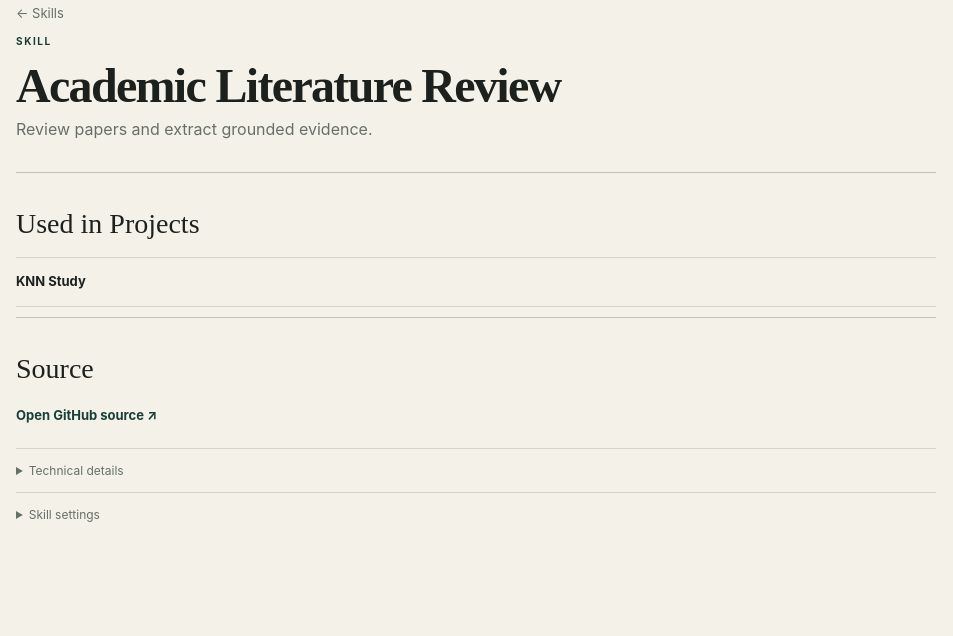
Scenario: shows bounded provenance and blocks deleting an attached Skill
The width and height of the screenshot is (953, 636).
Expected: the heading "Academic Literature Review" is shown, [16,60,561,110]
Expected: the link "Open GitHub source ↗" is shown, [16,407,157,423]
Click the heading "Skill settings" at [64, 514], box [29,507,100,522]
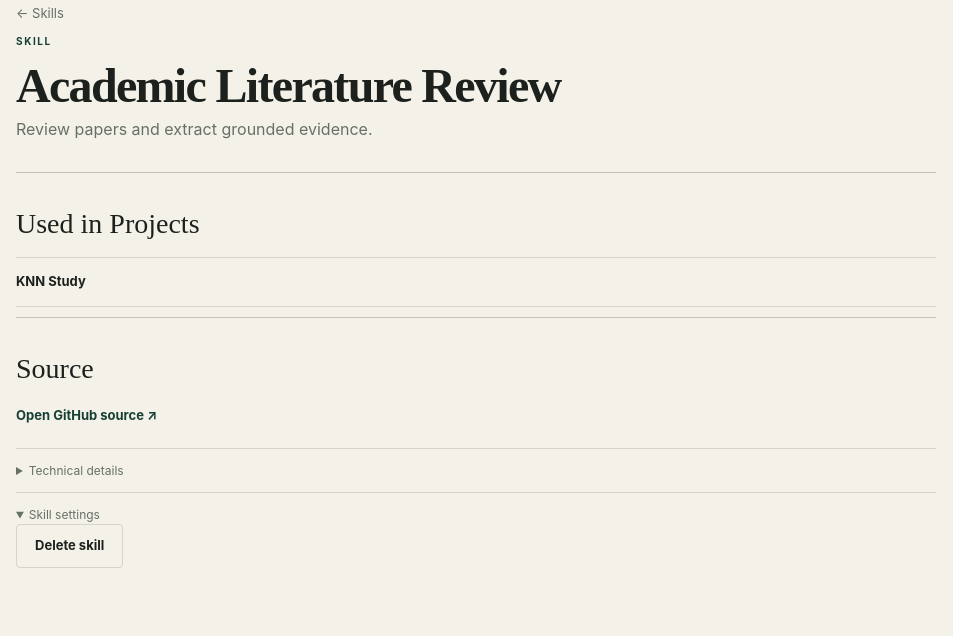
Click the button "Delete skill" at [70, 546], box [16,524,123,568]
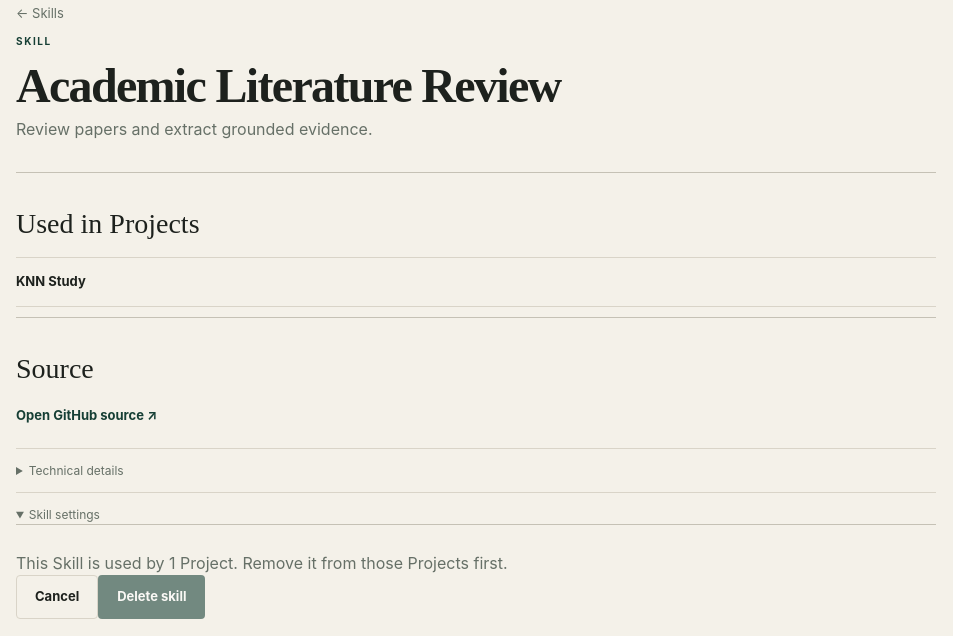
Expected: the text "Remove it from those Projects first" is shown, [16,553,508,573]
Expected: the button "Delete skill" is disabled, [98,575,206,619]
